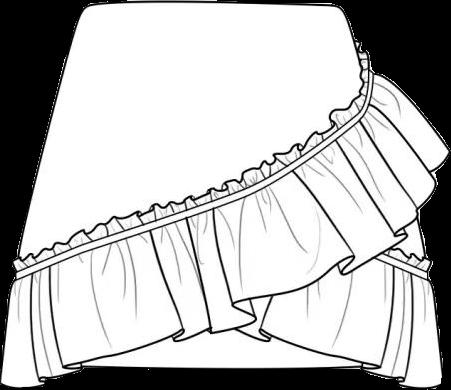Hemline: (0, 149, 450, 389), (236, 327, 447, 389)
Waistline: (15, 71, 373, 277), (83, 0, 340, 9), (380, 254, 430, 276)
